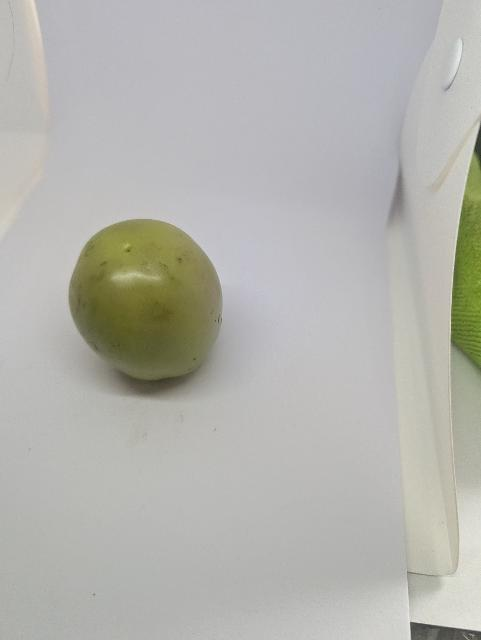green: (60, 211, 233, 385)
